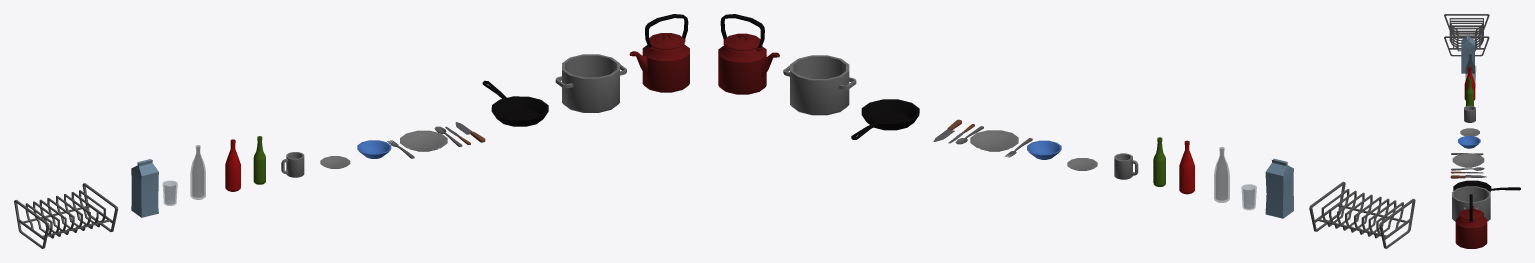
Rendered from Dishes All.FBX.
3 renders of one model, left to right at view 1: azimuth 30°, elevation 25°; view 2: azimuth 150°, elevation 25°; view 3: azimuth 270°, elevation 25°, orthographic. The views are drawn at different scales.
Parts seen in each view (by area): view 1: Kastrulya_01, Chaynik_01, Kitchen_plate_dryer_01, Skovoroda_01, Milk_01, plate_001, Bottle_type1_01, Bottle_type2_001, Krujka_001, bowl_01, Bottle_type3_011; view 2: Kastrulya_01, Chaynik_01, Kitchen_plate_dryer_01, Skovoroda_01, Milk_01, plate_001, Bottle_type1_01, Bottle_type2_001, Krujka_001, bowl_01, Bottle_type3_011; view 3: Chaynik_01, Kitchen_plate_dryer_01, Kastrulya_01, Milk_01, plate_001, Skovoroda_01, bowl_01, Krujka_001, Bottle_type2_001, Bottle_type3_011, Bottle_type1_01, small_plate_01 (+3 smaller).
Boxes of the visible parts, x1,y1,x2,y2 form: Kastrulya_01: (555,54,626,112); Chaynik_01: (629,14,689,92); Kitchen_plate_dryer_01: (14,183,118,248); Skovoroda_01: (482,80,548,126); Milk_01: (131,159,158,217); plate_001: (400,130,447,151); Bottle_type1_01: (190,145,205,199); Bottle_type2_001: (225,139,240,191); Krujka_001: (281,152,304,177); bowl_01: (357,140,391,158); Bottle_type3_011: (253,136,265,184); Kastrulya_01: (783,55,856,115); Chaynik_01: (718,14,779,94); Kitchen_plate_dryer_01: (1309,181,1415,248); Skovoroda_01: (851,99,919,139); Milk_01: (1265,158,1293,218); plate_001: (970,130,1018,151); Bottle_type1_01: (1214,147,1229,202); Bottle_type2_001: (1179,140,1194,194); Krujka_001: (1114,153,1138,179); bowl_01: (1027,140,1061,159); Bottle_type3_011: (1153,137,1165,186); Chaynik_01: (1455,194,1487,248); Kitchen_plate_dryer_01: (1444,14,1489,56); Kastrulya_01: (1452,186,1490,221); Milk_01: (1461,35,1474,73); plate_001: (1452,153,1484,167); Skovoroda_01: (1453,180,1520,191); bowl_01: (1458,136,1480,148); Krujka_001: (1464,105,1475,122); Bottle_type2_001: (1464,67,1475,100); Bottle_type3_011: (1466,77,1473,106); Bottle_type1_01: (1465,54,1475,83); small_plate_01: (1460,128,1479,136).
Size of the model in its own units: 602 by 57.93 by 90.7.
